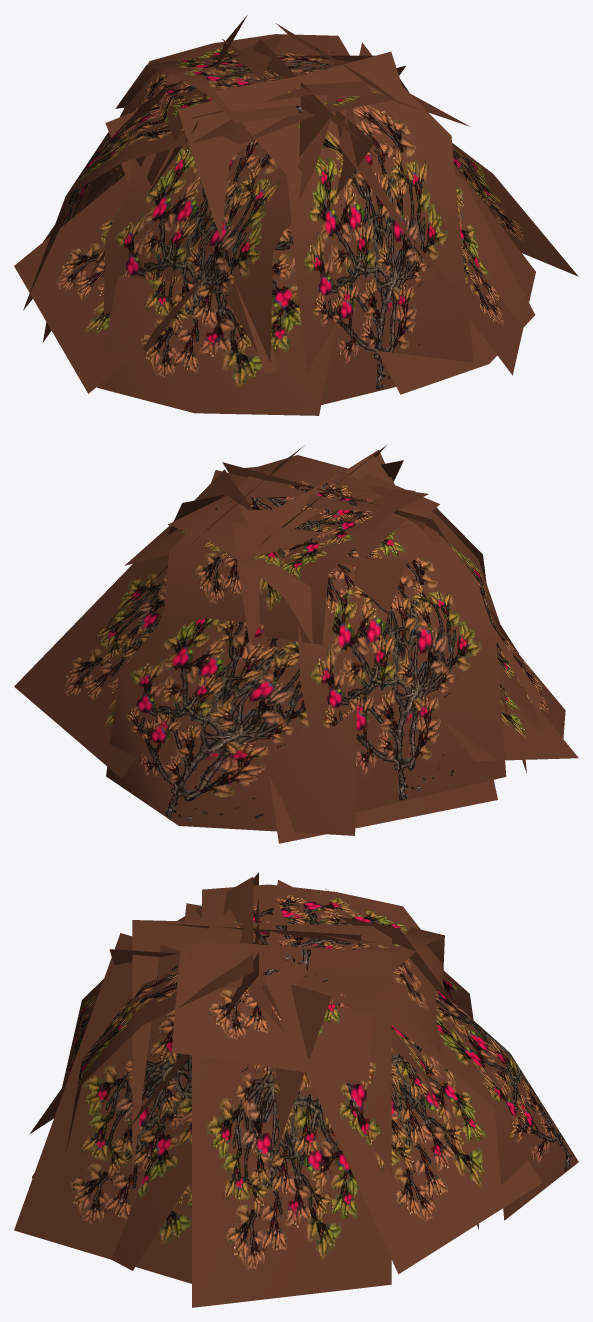
File: flora_fruit_berry_04.glb
The picture shows the model from 3 angles, top to bottom: view 1: azimuth 30°, elevation 25°; view 2: azimuth 150°, elevation 25°; view 3: azimuth 270°, elevation 25°; orthographic projection. The views are drawn at different scales.
Parts seen in each view (by area): view 1: flora_fruit_berry_04_part0; view 2: flora_fruit_berry_04_part0; view 3: flora_fruit_berry_04_part0.
Part boxes in pixels (box(x1,y1,x2,y2)): flora_fruit_berry_04_part0: box(14, 15, 578, 415); flora_fruit_berry_04_part0: box(14, 445, 578, 843); flora_fruit_berry_04_part0: box(14, 872, 578, 1307).
Size of the model in its own units: 5.8 by 2.98 by 5.53.
1 material, 1 textured.
